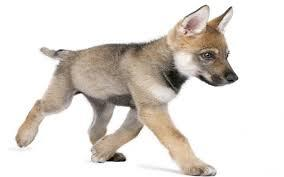Wolf: (15, 4, 239, 177)
